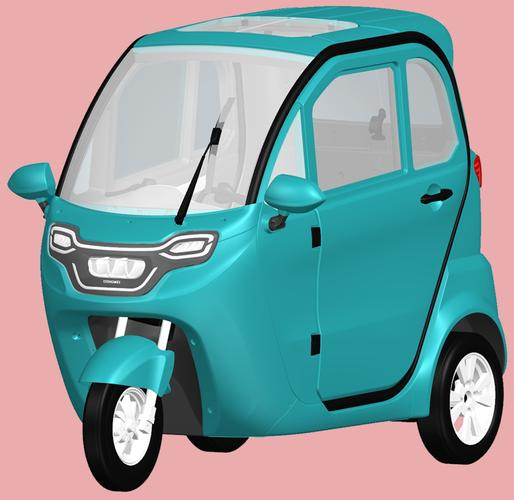empty: (53, 9, 510, 487)
